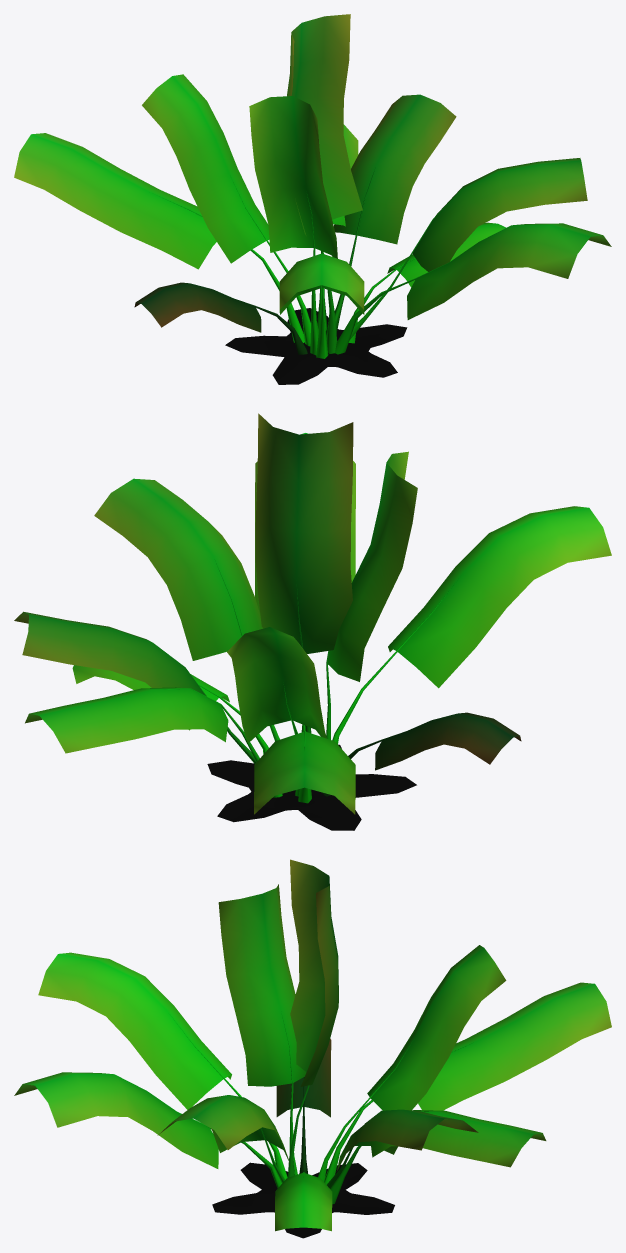
Rendered from fern 4.fbx.
The picture shows the model from 3 angles, top to bottom: view 1: azimuth 30°, elevation 25°; view 2: azimuth 150°, elevation 25°; view 3: azimuth 270°, elevation 25°; orthographic projection. The views are drawn at different scales.
Visible parts, largest first — view 1: _1, _0; view 2: _1, _0; view 3: _1, _0.
Boxes of the visible parts, <box> form: _1: <box>14,14,611,332</box>; _0: <box>157,171,470,384</box>; _1: <box>14,413,611,814</box>; _0: <box>160,563,457,830</box>; _1: <box>14,859,611,1231</box>; _0: <box>155,1016,469,1238</box>.
Bounding box in the file's own units: 246 × 190 × 317.
